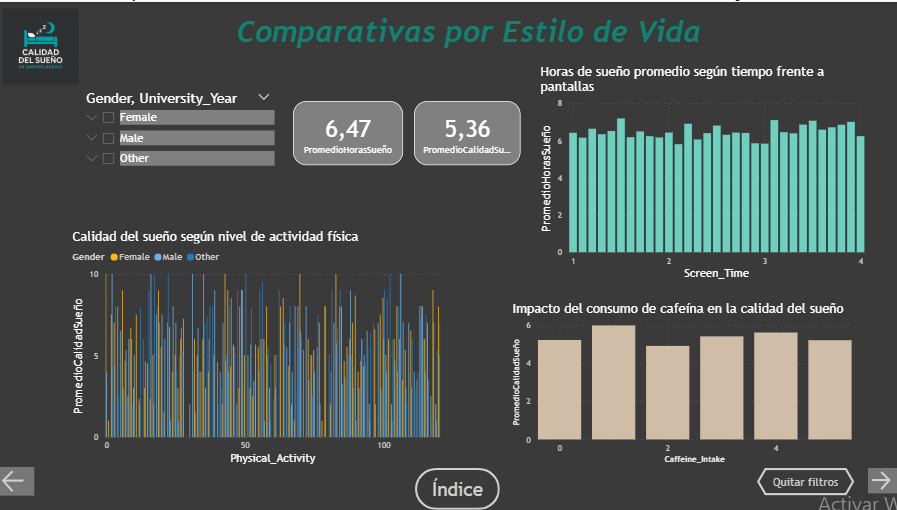

This screenshot's page, from the dashboard's own definition file:
{"tool":"powerbi","page":{"name":"Comparativas","canvas":[1280,720],"ordinal":5},"visuals":[{"type":"actionButton","box":[0,659.6,50,40.6],"z":0},{"type":"actionButton","title":"Índice","box":[589.2,660.6,120.4,59.4],"z":1000},{"type":"actionButton","box":[1231.5,661.1,48.5,35.9],"z":2000},{"type":"textbox","box":[331.5,11.6,692.8,61.3],"z":3000},{"type":"card","fields":{"Values":["Tabla Medidas.PromedioHorasSueño"]},"box":[416,140.9,155.8,91.2],"z":4000},{"type":"card","fields":{"Values":["Tabla Medidas.PromedioCalidadSueño"]},"box":[588.4,140.9,150.8,91.2],"z":5000},{"type":"clusteredColumnChart","title":"Calidad del sueño según nivel de actividad física","fields":{"Category":["HabitosSueño.Physical_Activity"],"Y":["Tabla Medidas.PromedioCalidadSueño"],"Series":["Estudiante.Gender"]},"box":[99.4,319.9,540.3,339.8],"z":6000},{"type":"clusteredColumnChart","title":"Horas de sueño promedio según tiempo frente a pantallas","fields":{"Category":["HabitosSueño.Screen_Time"],"Y":["Tabla Medidas.PromedioHorasSueño"]},"box":[762.4,86.2,469,311.6],"z":7000},{"type":"clusteredColumnChart","title":"Impacto del consumo de cafeína en la calidad del sueño","fields":{"Category":["HabitosSueño.Caffeine_Intake"],"Y":["Tabla Medidas.PromedioCalidadSueño"]},"box":[722.6,422.6,490.6,237],"z":8000},{"type":"slicer","fields":{"Values":["Estudiante.Gender","Estudiante.University_Year"]},"box":[111,119.3,285.1,132.6],"z":9000},{"type":"actionButton","box":[1074.6,661,137.9,38.5],"z":10001},{"type":"image","box":[0,11.3,129,114.8],"z":10002}]}

Visuals, with their boxes on the page's 1280x720 design canvas (x1, y1, x2, y2). These are canvas units, not pixel positions in the 897x510 screenshot, which may show the page scaled, cropped or inside an application window:
actionButton: [x1=0, y1=660, x2=50, y2=700]
"Índice" actionButton: [x1=589, y1=661, x2=710, y2=720]
actionButton: [x1=1232, y1=661, x2=1280, y2=697]
textbox: [x1=332, y1=12, x2=1024, y2=73]
card - Tabla Medidas.PromedioHorasSueño: [x1=416, y1=141, x2=572, y2=232]
card - Tabla Medidas.PromedioCalidadSueño: [x1=588, y1=141, x2=739, y2=232]
"Calidad del sueño según nivel de actividad física" clusteredColumnChart: [x1=99, y1=320, x2=640, y2=660]
"Horas de sueño promedio según tiempo frente a pantallas" clusteredColumnChart: [x1=762, y1=86, x2=1231, y2=398]
"Impacto del consumo de cafeína en la calidad del sueño" clusteredColumnChart: [x1=723, y1=423, x2=1213, y2=660]
slicer - Estudiante.Gender x Estudiante.University_Year: [x1=111, y1=119, x2=396, y2=252]
actionButton: [x1=1075, y1=661, x2=1212, y2=700]
image: [x1=0, y1=11, x2=129, y2=126]
